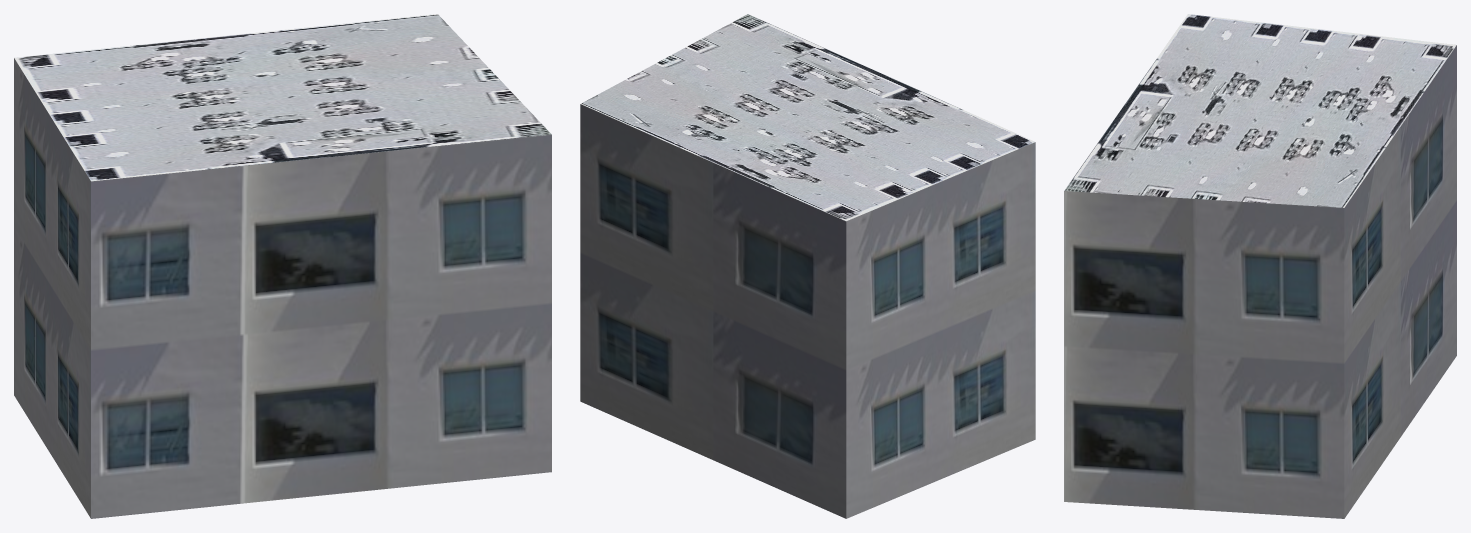
The model's file is ResTex__397.fbx.
3 views of the same model, side by side, from view 1: azimuth 30°, elevation 25°; view 2: azimuth 150°, elevation 25°; view 3: azimuth 270°, elevation 25° (orthographic). The views are drawn at different scales.
Parts seen in each view (by area): view 1: CityEngineMaterial_10_m, CityEngineMaterial_8_m; view 2: CityEngineMaterial_10_m, CityEngineMaterial_8_m; view 3: CityEngineMaterial_10_m, CityEngineMaterial_8_m.
Boxes of the visible parts, box(x1,y1,x2,y2) form: CityEngineMaterial_10_m: box(14, 58, 551, 518); CityEngineMaterial_8_m: box(14, 14, 551, 181); CityEngineMaterial_10_m: box(580, 104, 1035, 518); CityEngineMaterial_8_m: box(581, 14, 1034, 221); CityEngineMaterial_10_m: box(1064, 45, 1456, 518); CityEngineMaterial_8_m: box(1064, 14, 1456, 207).
Size of the model in its own units: 8.03 by 6 by 6.87.
2 materials, 2 textured.
